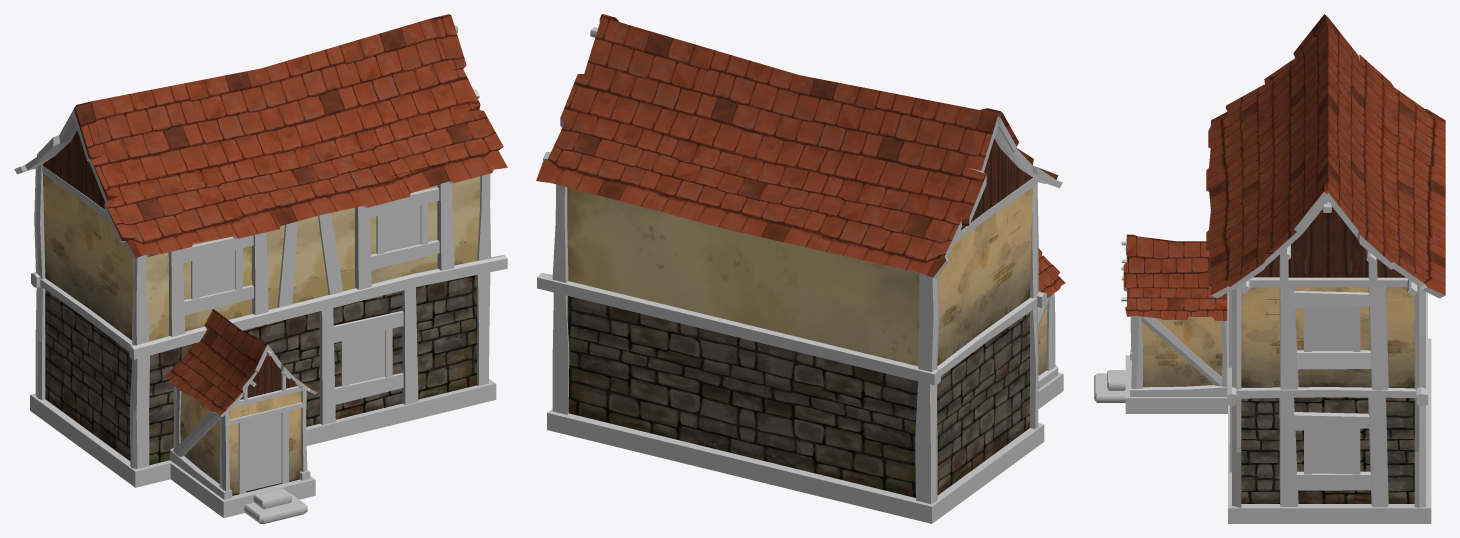
Rendered from bldg_retx1.fbx.
3 renders of one model, left to right at view 1: azimuth 30°, elevation 25°; view 2: azimuth 150°, elevation 25°; view 3: azimuth 270°, elevation 25°, orthographic. The views are drawn at different scales.
Parts seen in each view (by area): view 1: Cube.020; view 2: Cube.020; view 3: Cube.020.
Part boxes in pixels (<box>): Cube.020: <box>14,14,507,523</box>; Cube.020: <box>536,14,1065,523</box>; Cube.020: <box>1094,14,1445,523</box>.
Bounding box in the file's own units: 1037 × 895 × 848.
